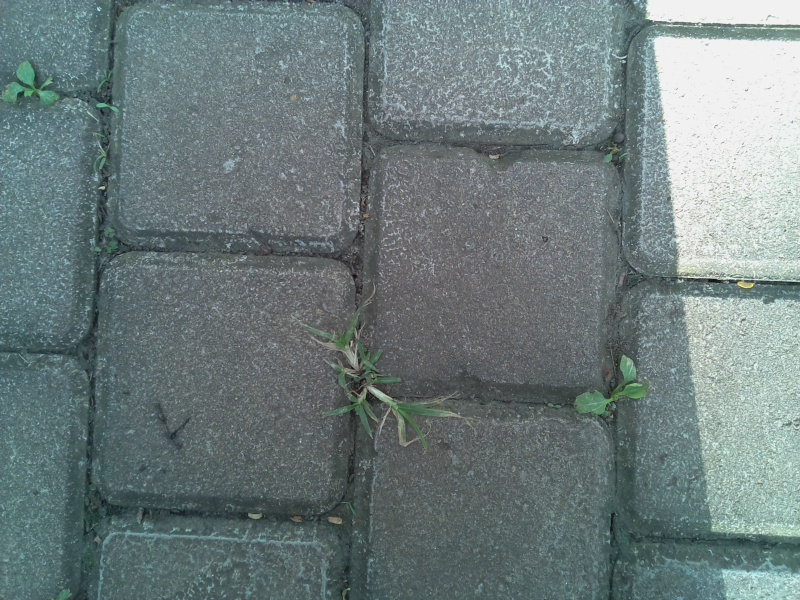Weed: (315, 380, 457, 452), (572, 346, 650, 427), (298, 302, 376, 372), (1, 58, 64, 110), (90, 85, 127, 122), (599, 135, 632, 174), (93, 225, 125, 261), (93, 137, 119, 177)
